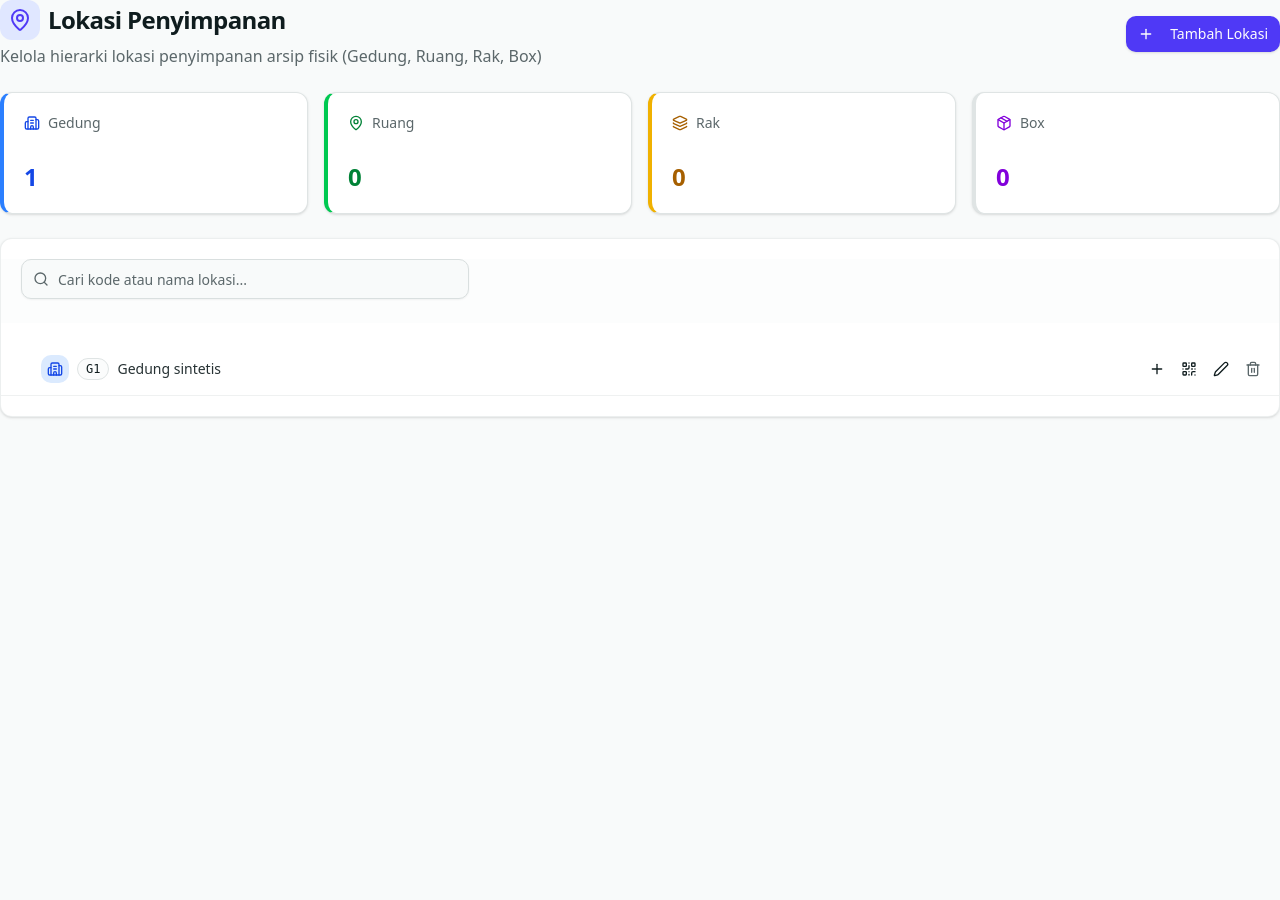
Test case: storage QR generation › reports an incomplete success response instead of spinning indefinitely
The width and height of the screenshot is (1280, 900).
Expected: the text "Gedung sintetis" is shown, top-left (118, 359), bottom-right (221, 378)
Click the button titled "QR Code" at (1189, 369), box top-left (1175, 355), bottom-right (1203, 383)
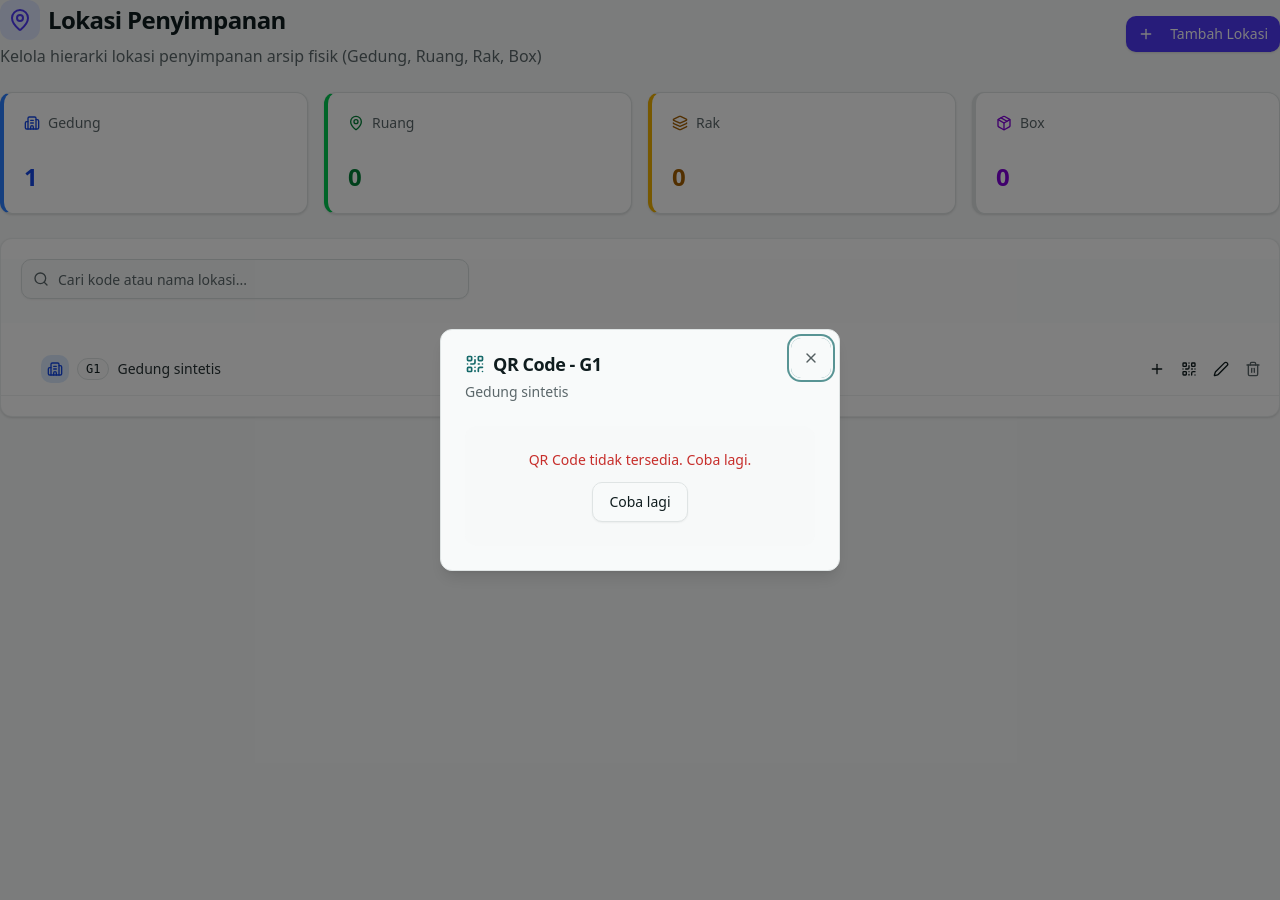
Expected: the message shows "QR Code tidak tersedia", top-left (529, 450), bottom-right (751, 469)
